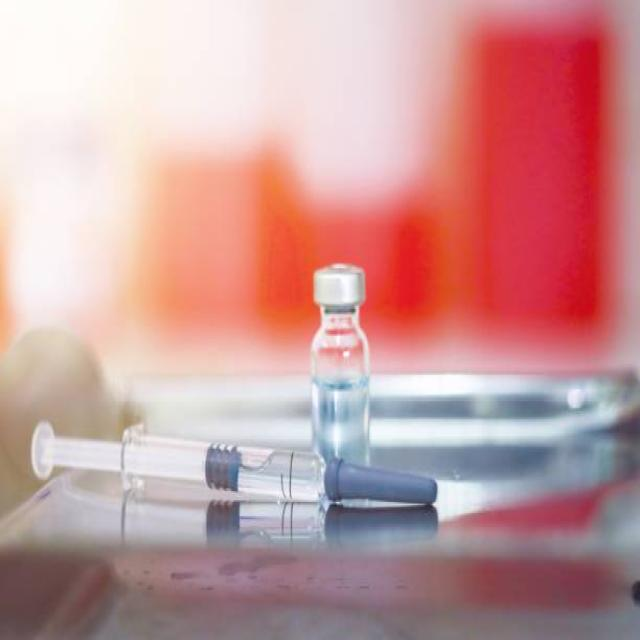B3: (14, 407, 463, 522), (290, 244, 380, 482)
